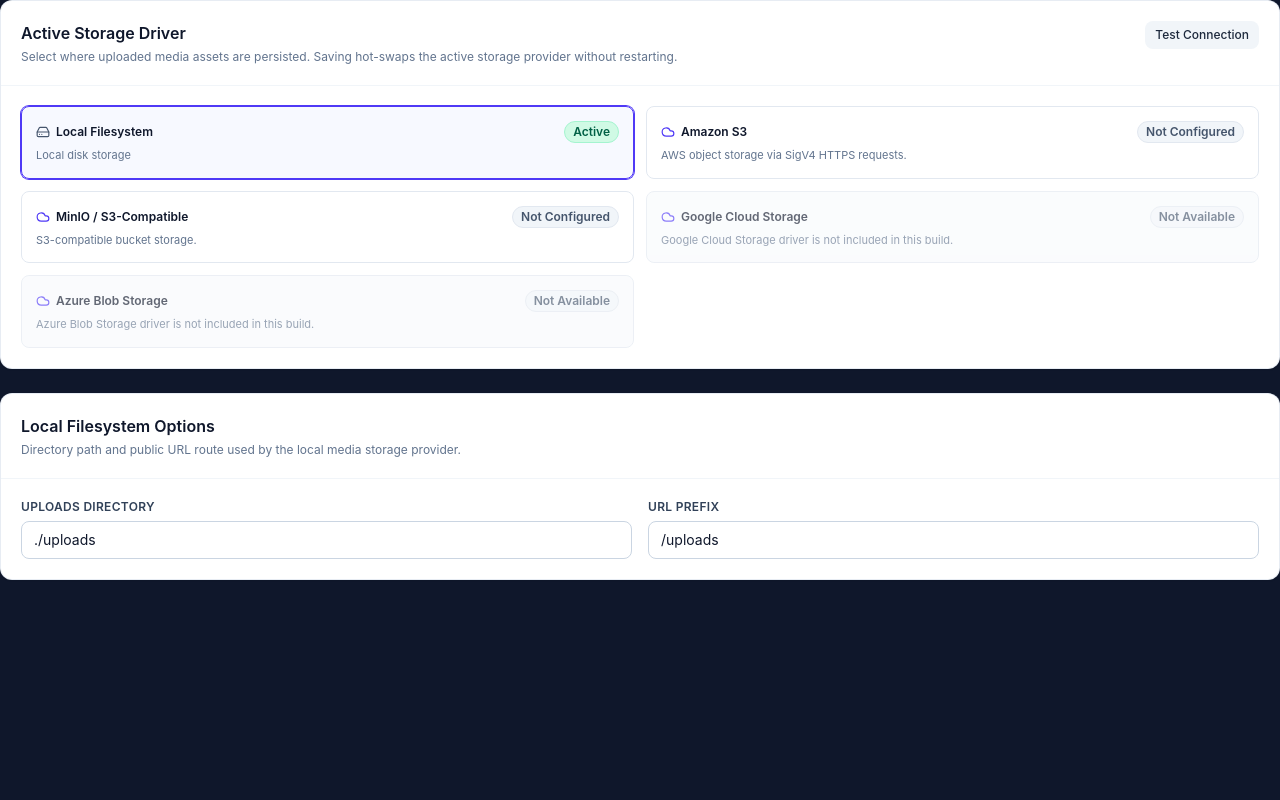
M4 Settings Views › displays honest unavailable badges for GCS/Azure and runs Test Connection on StorageProvidersView
This screenshot has width=1280, height=800.
Expected: the heading "Active Storage Driver" is shown, [21,23,186,43]
Expected: the button "Google Cloud Storage" is disabled, [646,190,1259,263]
Click the button "Test Connection": point(1202, 35) [1145,21,1259,49]
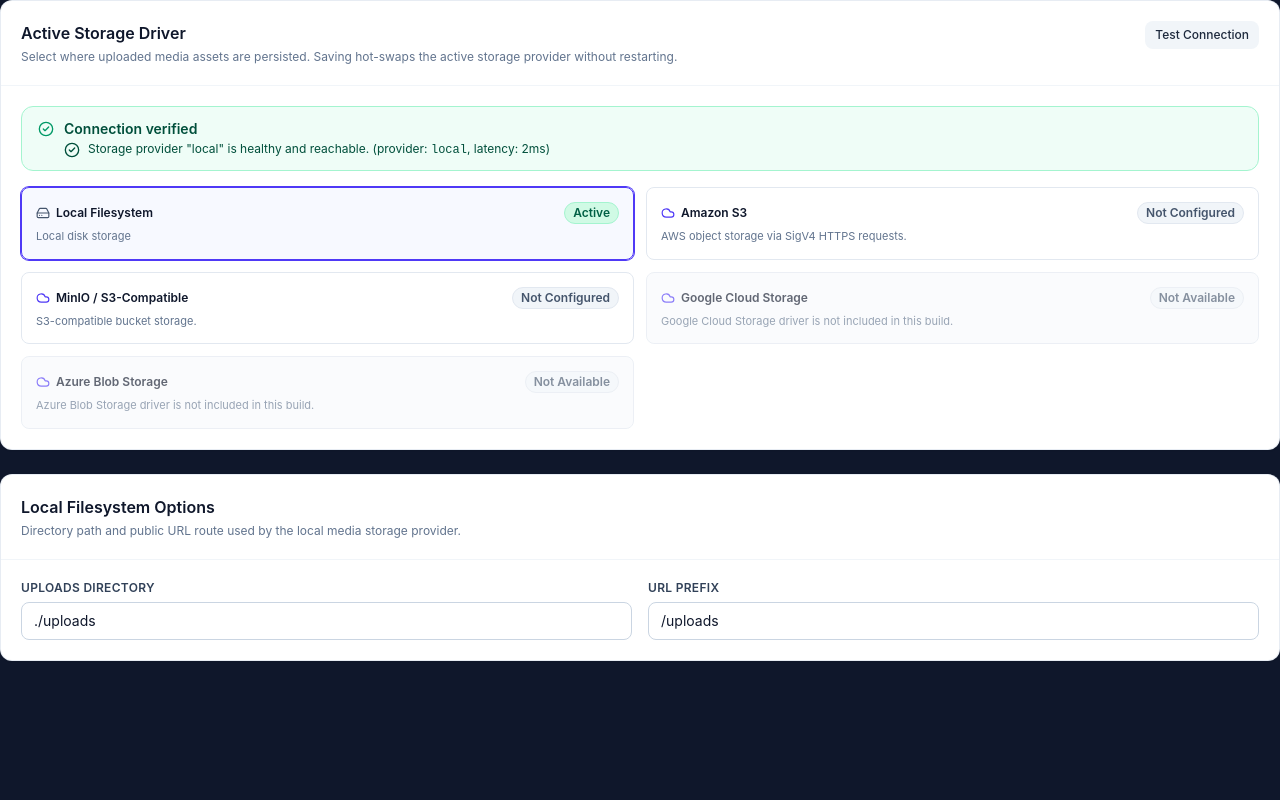
Expected: the text "Storage provider \"local\" is healthy and reachable." is shown, [88,141,369,156]
